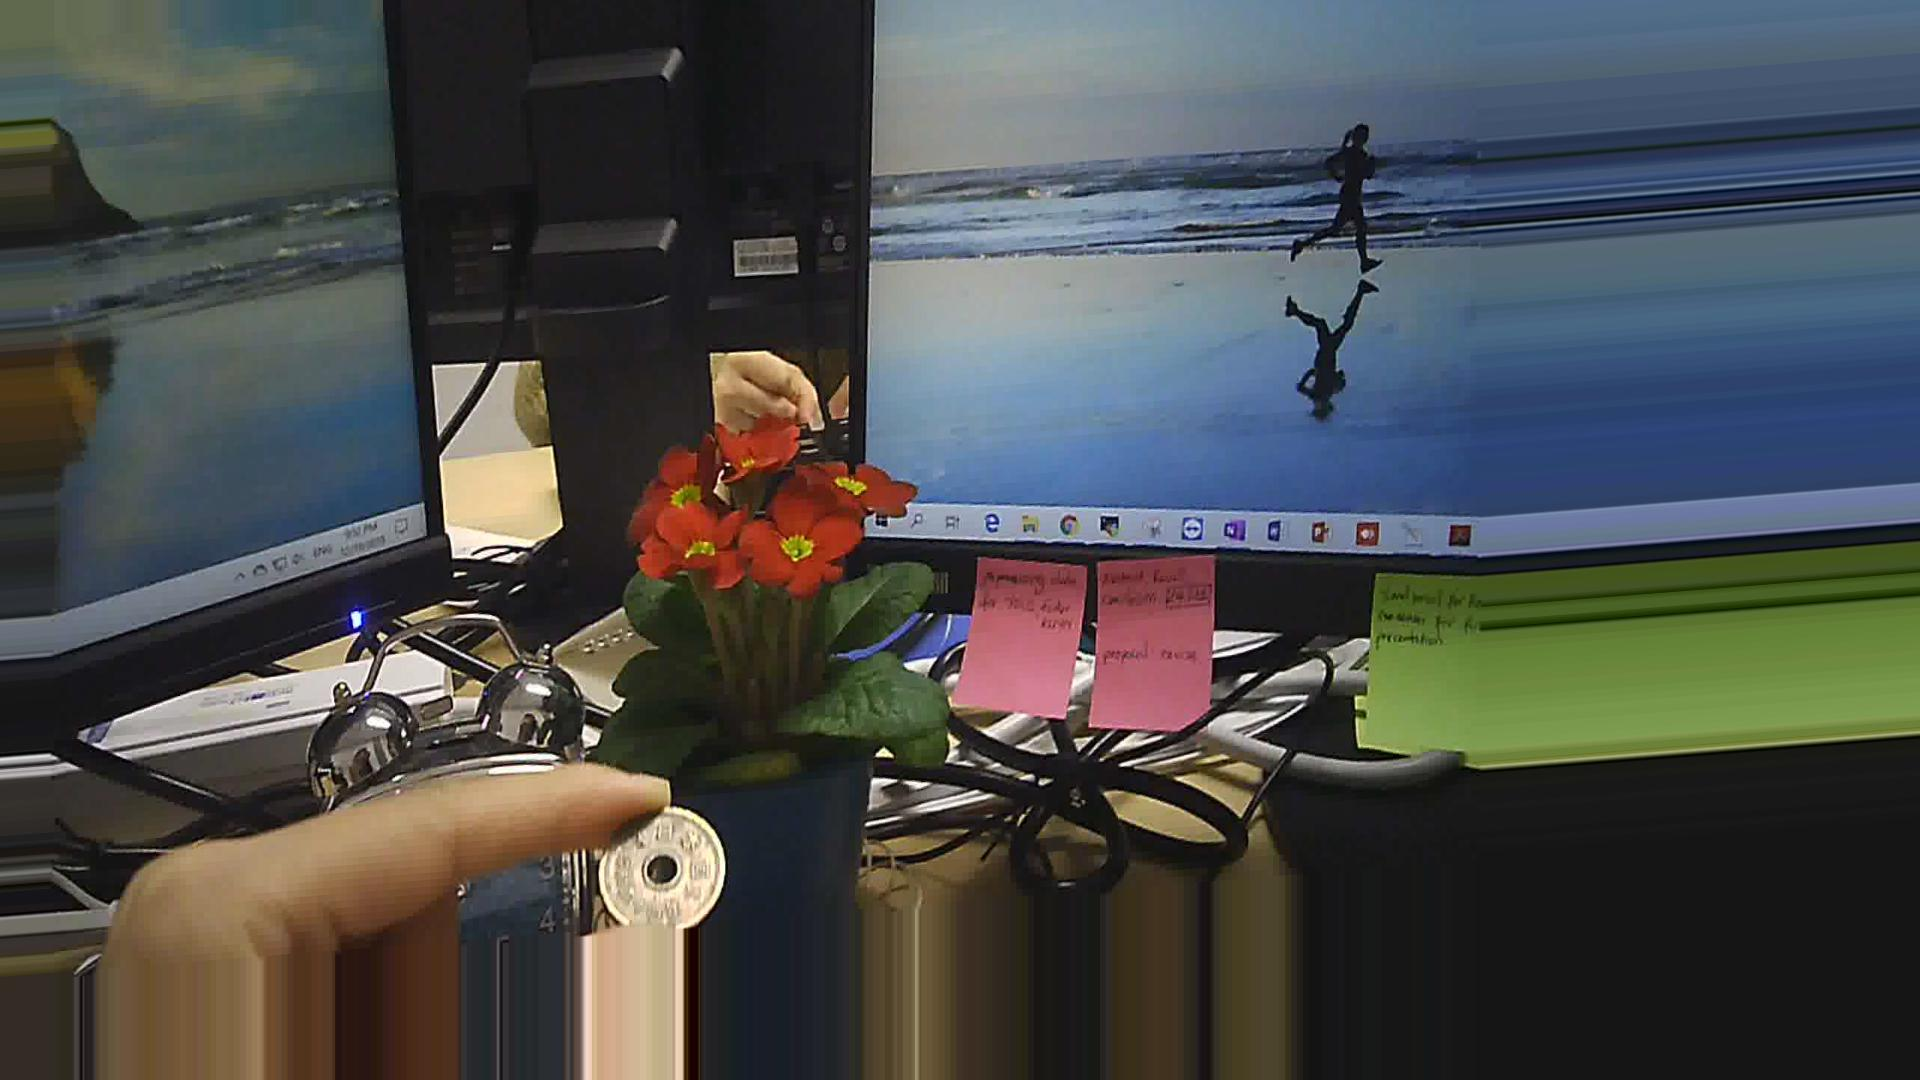5 Yen: (585, 794, 736, 924)
